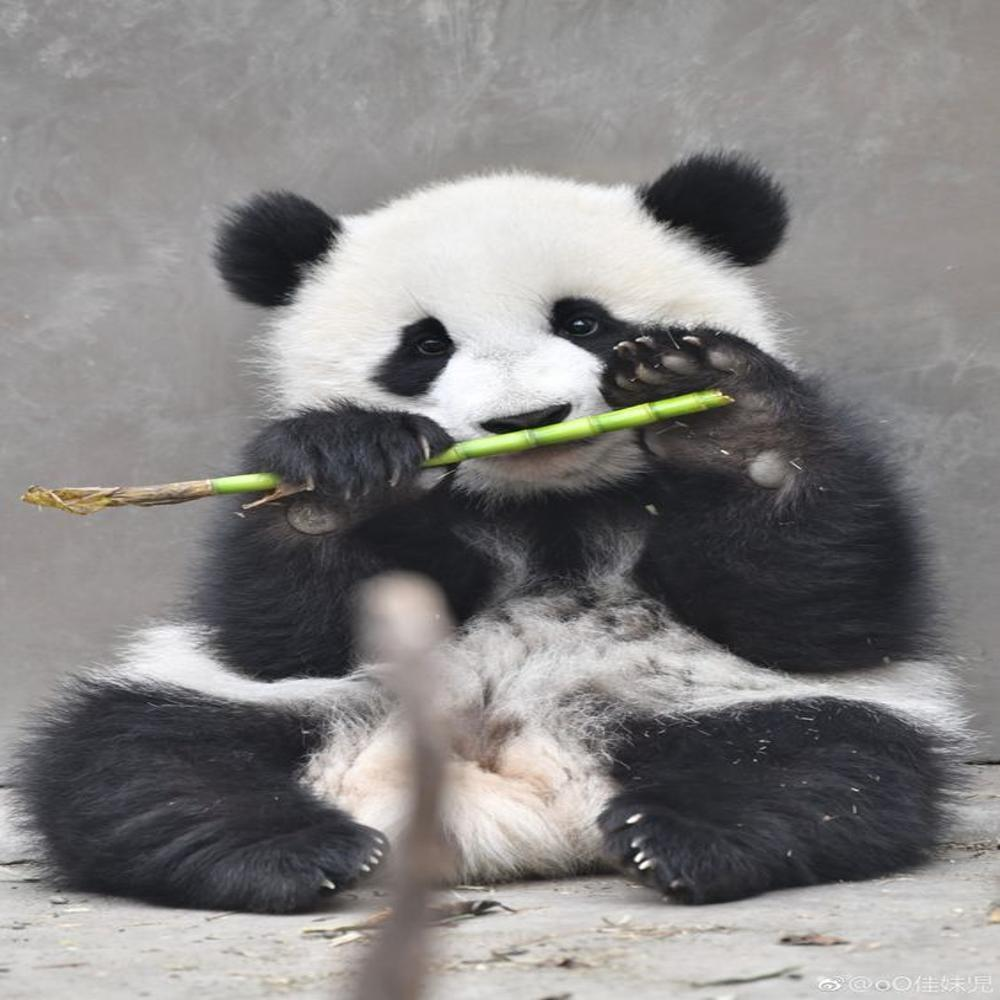panda: (36, 152, 968, 908)
